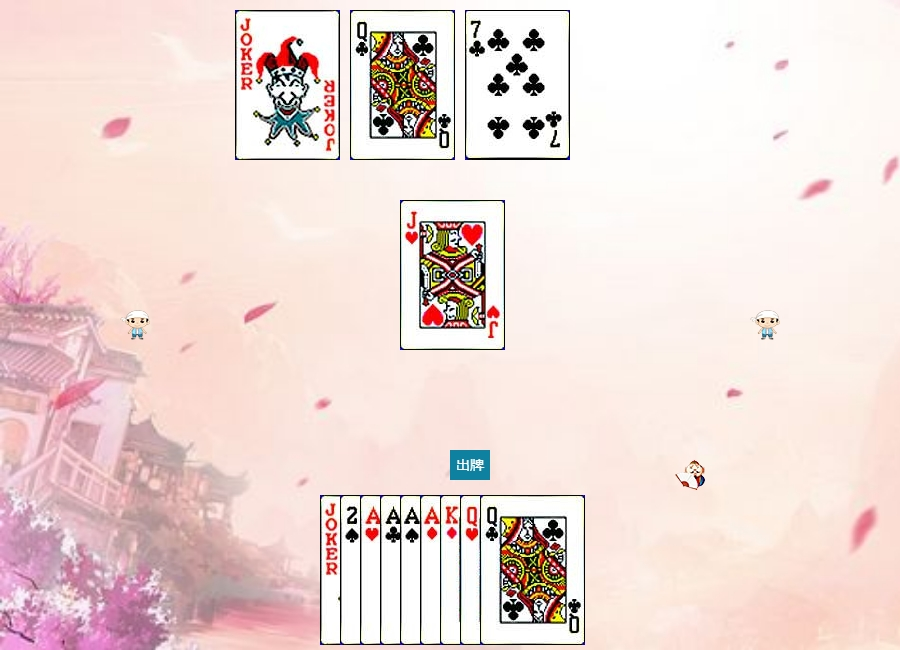11~3: (400, 200, 505, 350)
12~2: (350, 10, 455, 160), (480, 495, 585, 645)
12~3: (460, 495, 565, 645)
13~1: (440, 495, 545, 645)
14~1: (420, 495, 525, 645)
14~2: (380, 495, 485, 645)
14~3: (360, 495, 465, 645)
14~4: (400, 495, 505, 645)
15~4: (340, 495, 445, 645)
18~4: (235, 10, 340, 160), (320, 495, 425, 645)
7~2: (465, 10, 570, 160)
